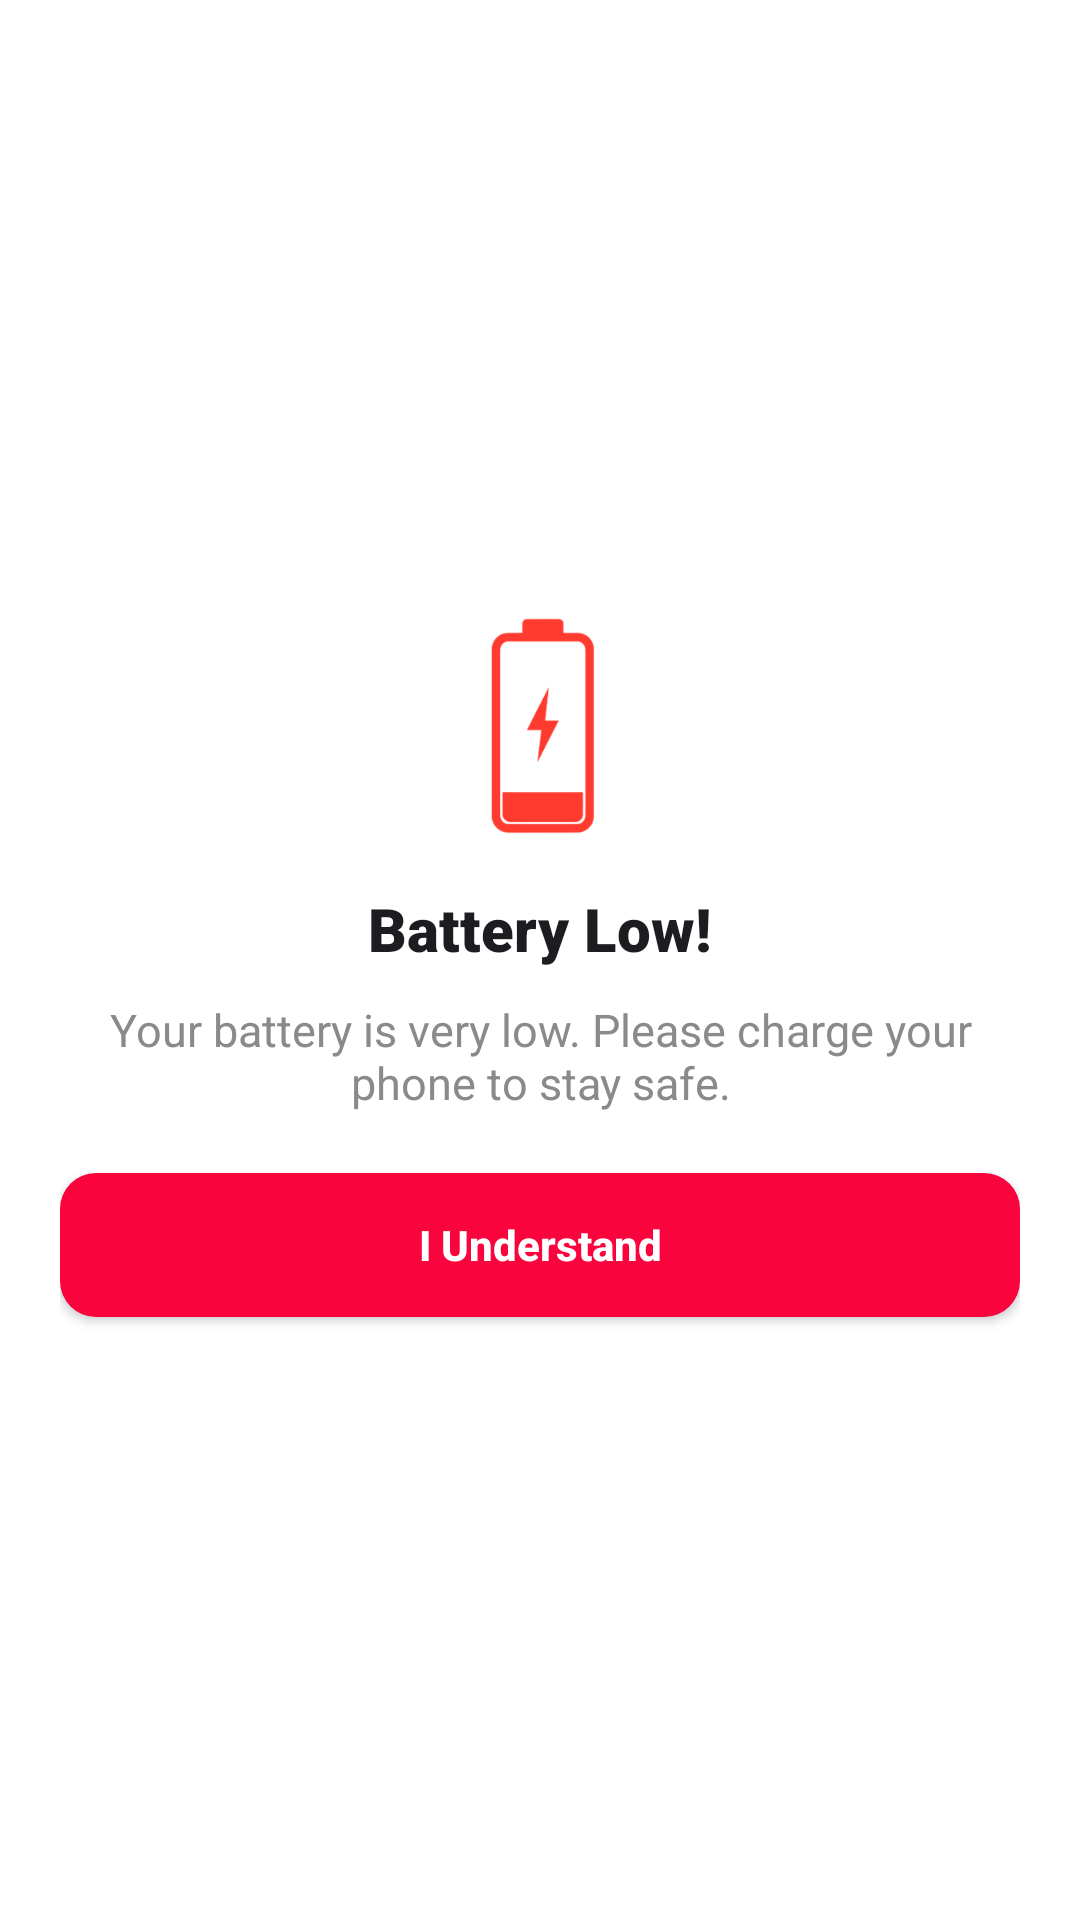

Screen size 1080w x 1920h. Icon name, then its center in pixels as (x=x, y=y):
lock idle low battery: (x=542, y=725)
